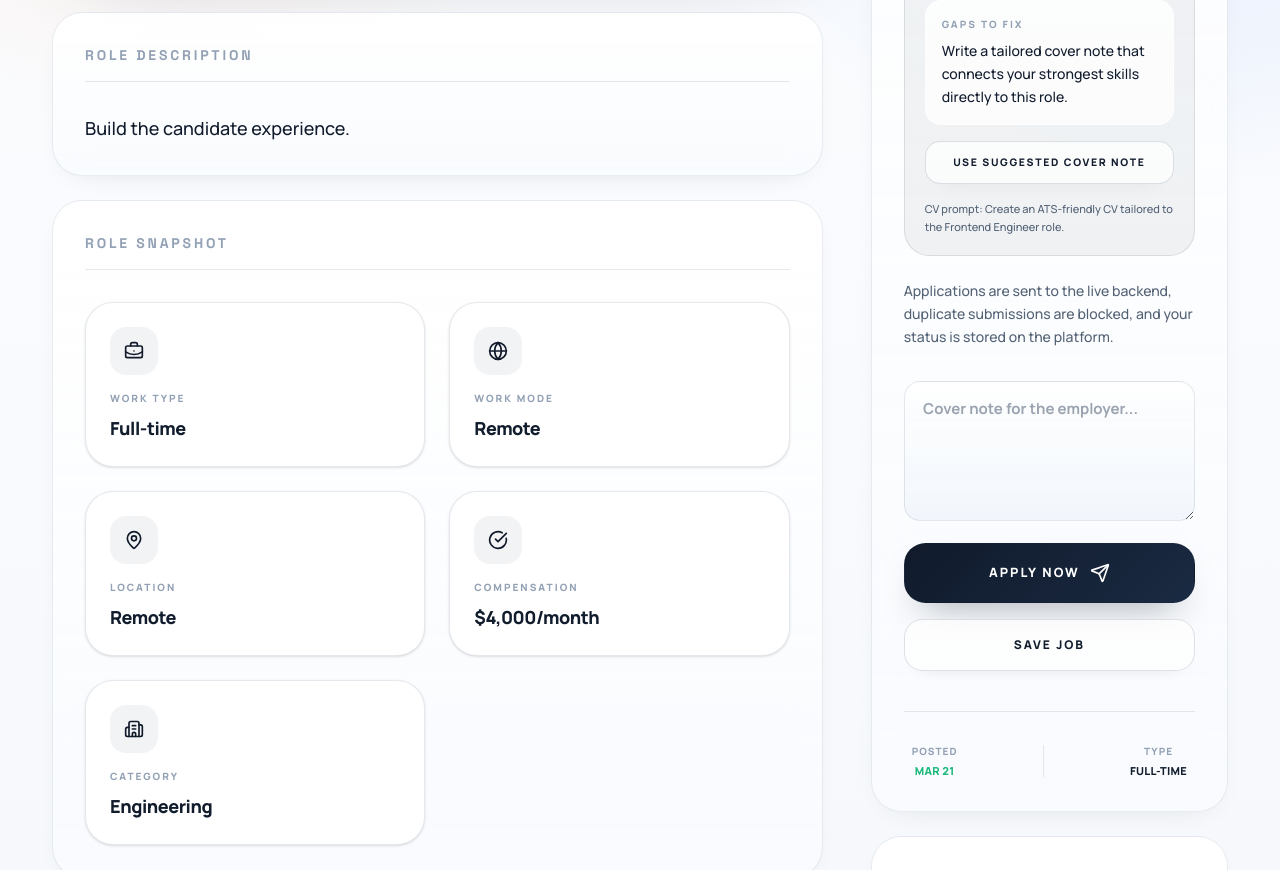
Test: JobDetails application flow › submits a seeker application and swaps the form for stored status
The width and height of the screenshot is (1280, 870).
(page scrolled)
Step 1. Type "I can own the frontend workflow." into the text box with placeholder "Cover note for the employer..." → (1049, 451), box [904, 381, 1195, 521]
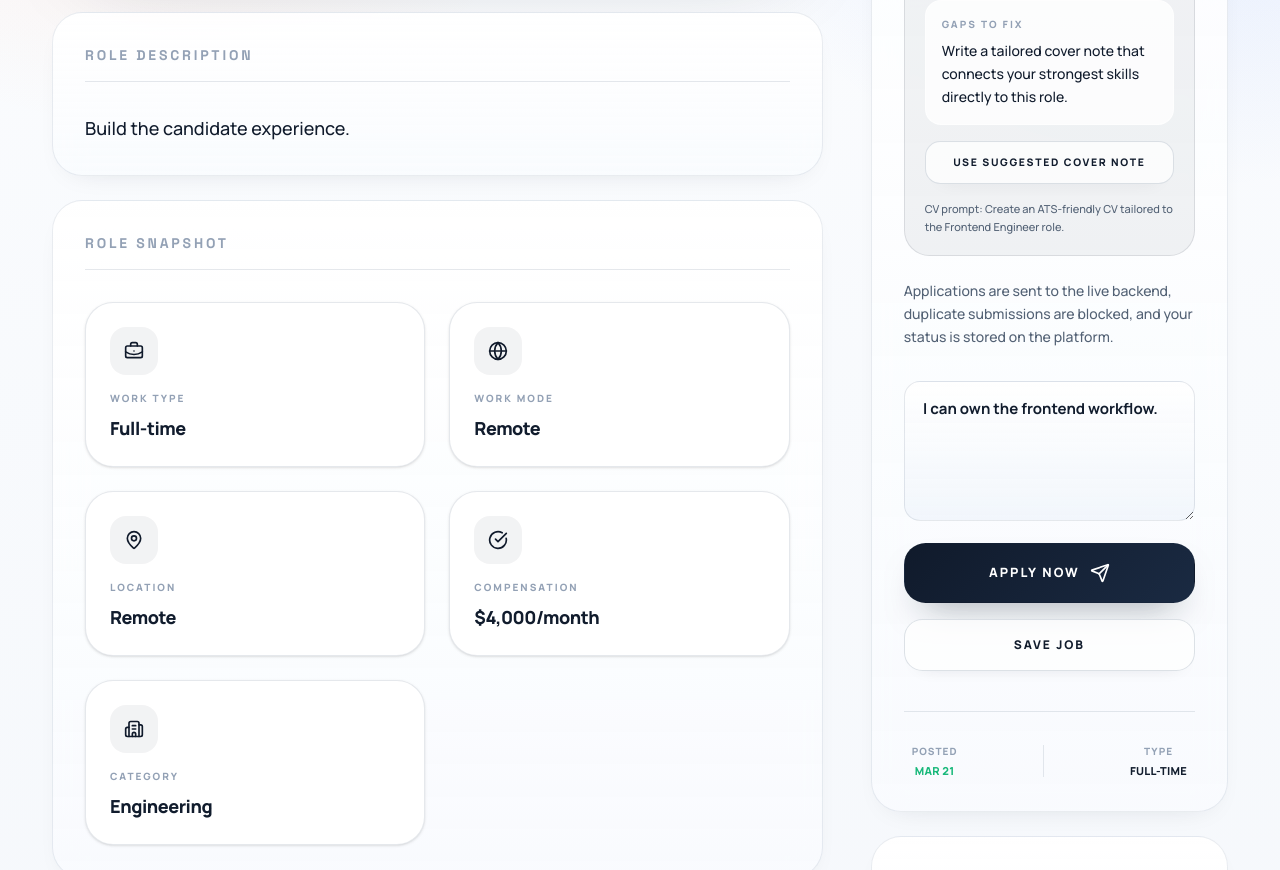
Step 2. Click the button "Apply Now" → (1049, 573), box [904, 543, 1195, 603]
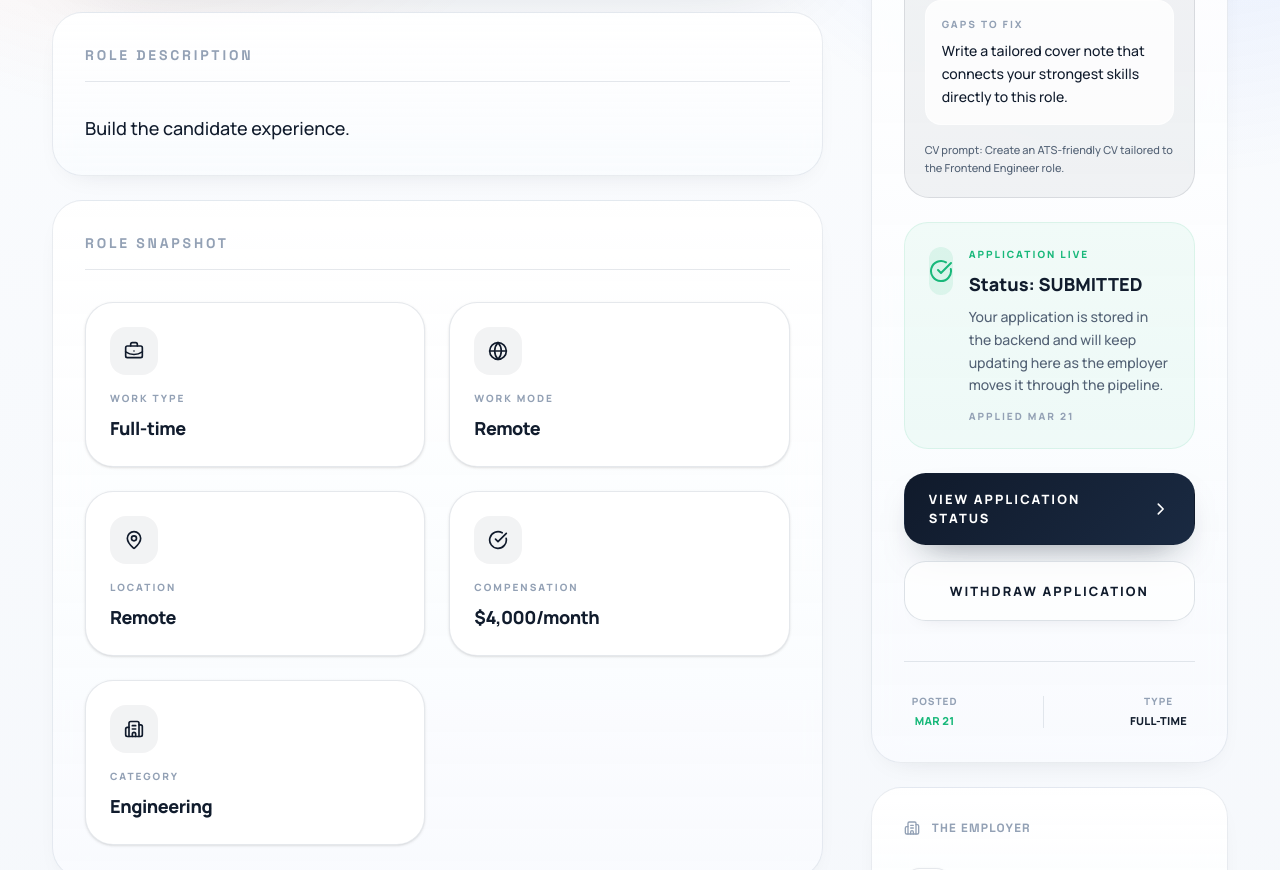
Now the text "Application Live" is shown, box [969, 247, 1089, 261]
Now the text "Status: SUBMITTED" is shown, box [969, 270, 1170, 298]
